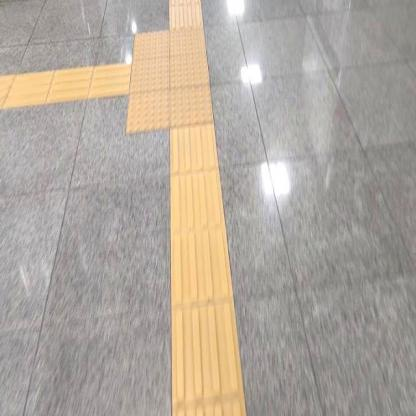podotacti: (169, 129, 249, 415), (111, 12, 241, 158), (0, 61, 129, 111), (169, 0, 202, 23)
